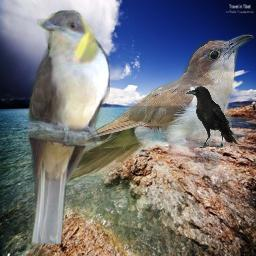Crow: (185, 86, 238, 149)
Cuckoo: (33, 33, 254, 182), (24, 10, 110, 245)
